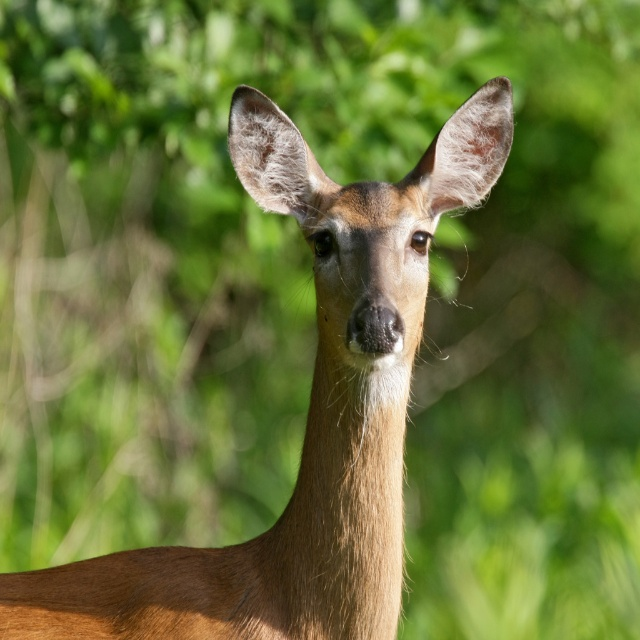Deer: (0, 76, 514, 640)
